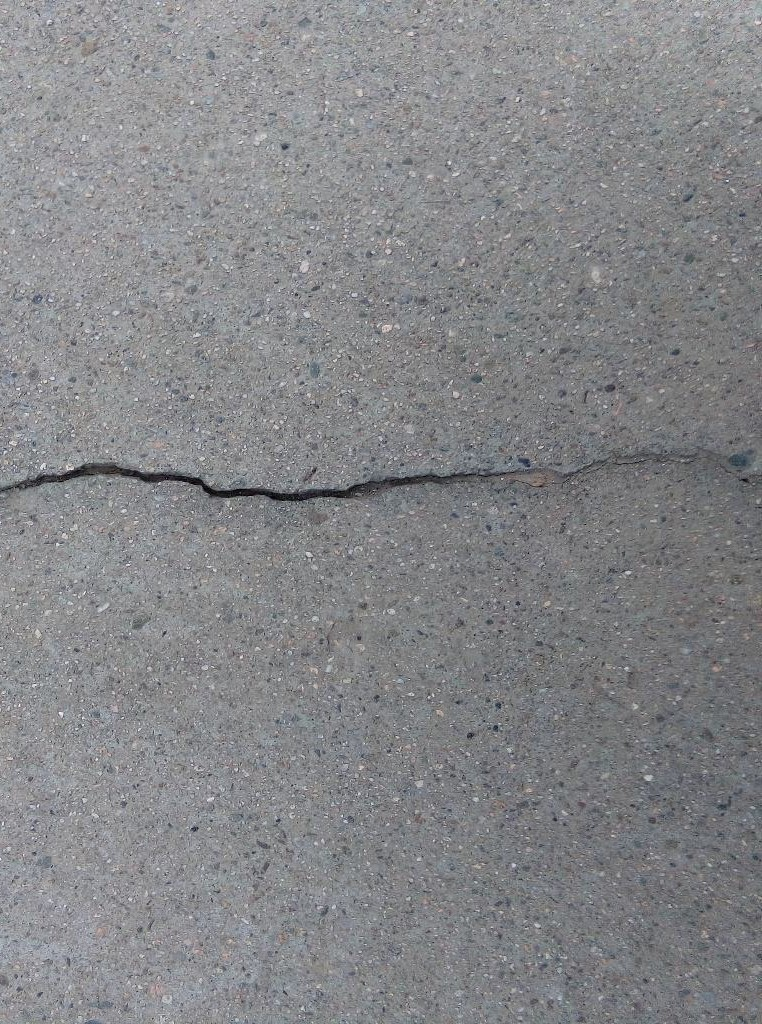Crack: (1, 448, 762, 504)
